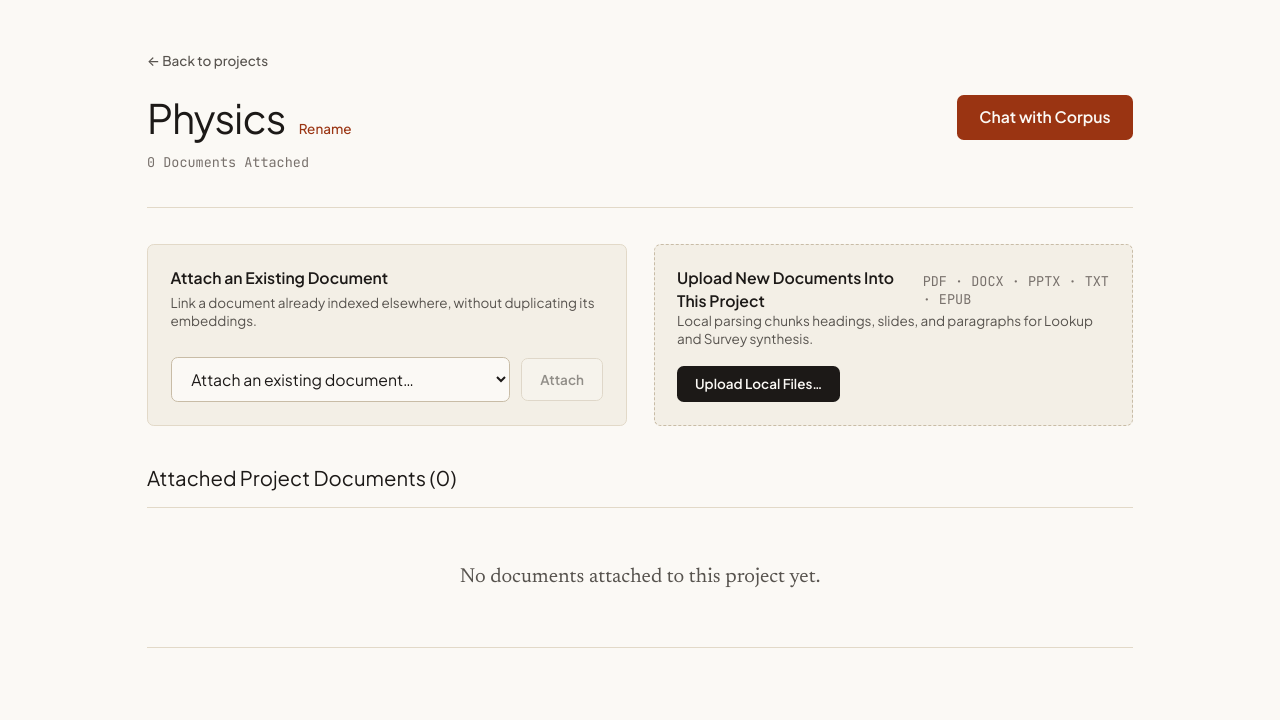
Test: ProjectDetailScreen › cancels a rename without saving
This screenshot has width=1280, height=720.
Check: the heading "Physics" is shown, box [147, 94, 285, 140]
Click the button "Rename" at (325, 128), box [299, 120, 352, 138]
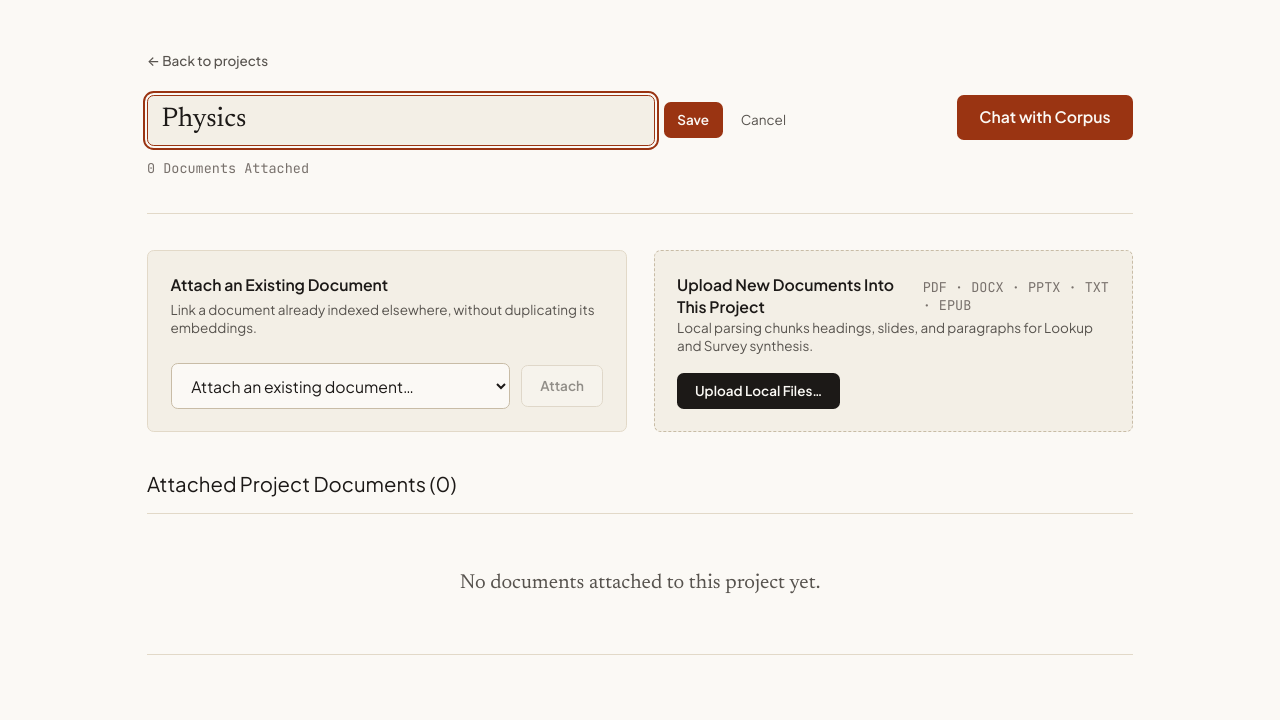
Click the button "Cancel" at (763, 120), box [732, 102, 795, 138]
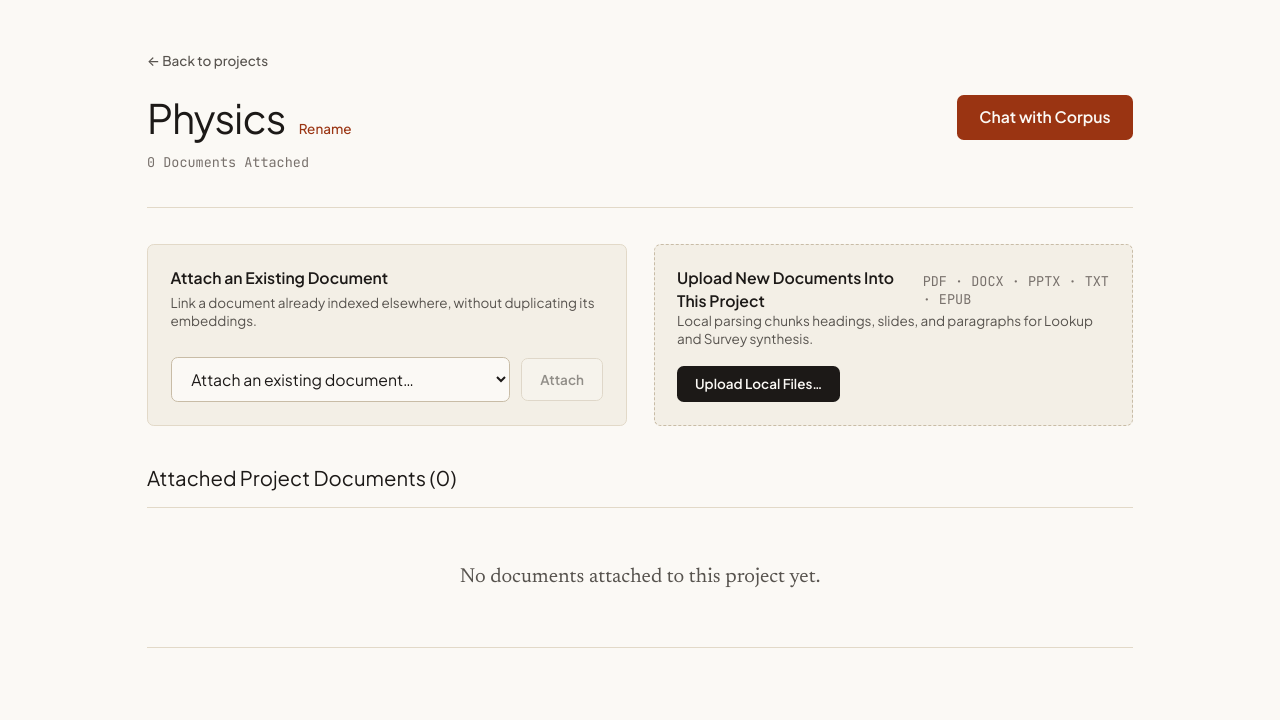
Check: the heading "Physics" is shown, box [147, 94, 285, 140]
